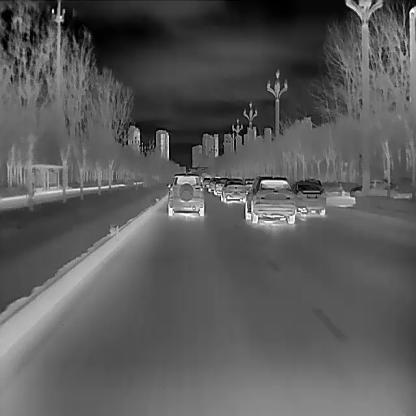car: (245, 173, 297, 224), (165, 171, 205, 216), (291, 177, 327, 219), (347, 177, 399, 198), (219, 177, 246, 202), (213, 176, 226, 194), (207, 174, 218, 191), (243, 176, 255, 190), (202, 176, 209, 188)
